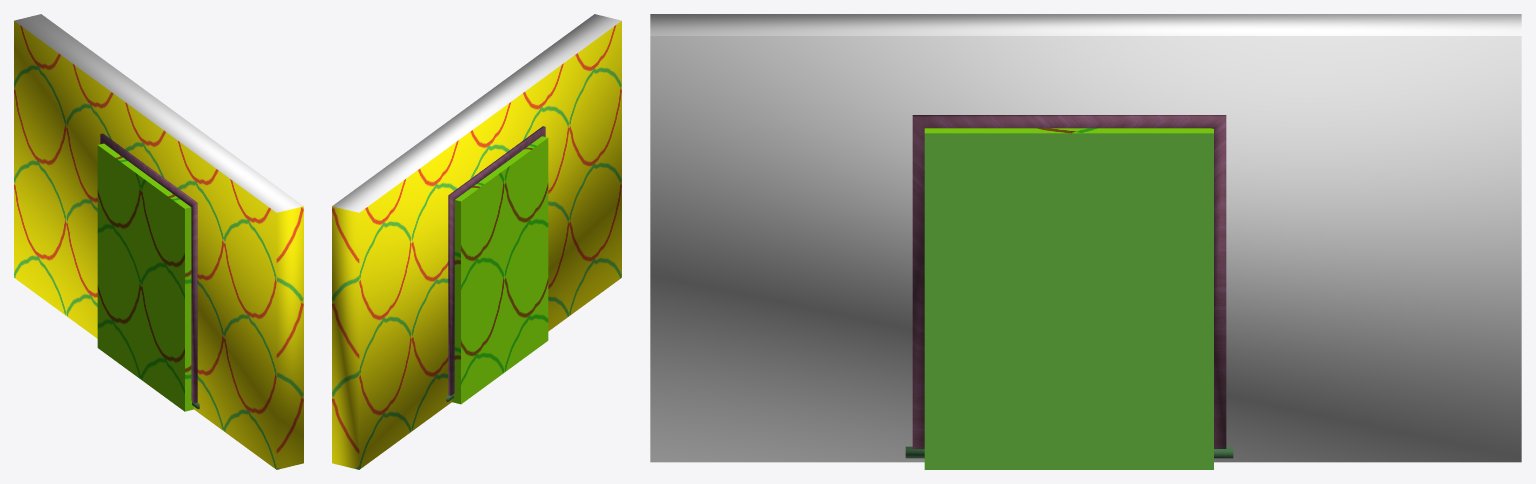
Rendered from awall4.glb.
3 views of the same model, side by side, from view 1: azimuth 30°, elevation 25°; view 2: azimuth 150°, elevation 25°; view 3: azimuth 270°, elevation 25° (orthographic). The views are drawn at different scales.
Parts seen in each view (by area): view 1: Wall, hole, Door; view 2: Wall, hole, Door; view 3: Wall, hole, Door.
Part boxes in pixels (x1,y1,x2,y2): Wall: (14, 14, 303, 469); hole: (97, 143, 193, 411); Door: (100, 133, 199, 409); Wall: (332, 14, 621, 469); hole: (452, 136, 548, 404); Door: (446, 126, 545, 401); Wall: (650, 14, 1521, 462); hole: (924, 128, 1213, 469); Door: (905, 115, 1233, 458).
Bounding box in the file's own units: 0.5002 × 2.7 × 5.
8 materials, 2 textured.
